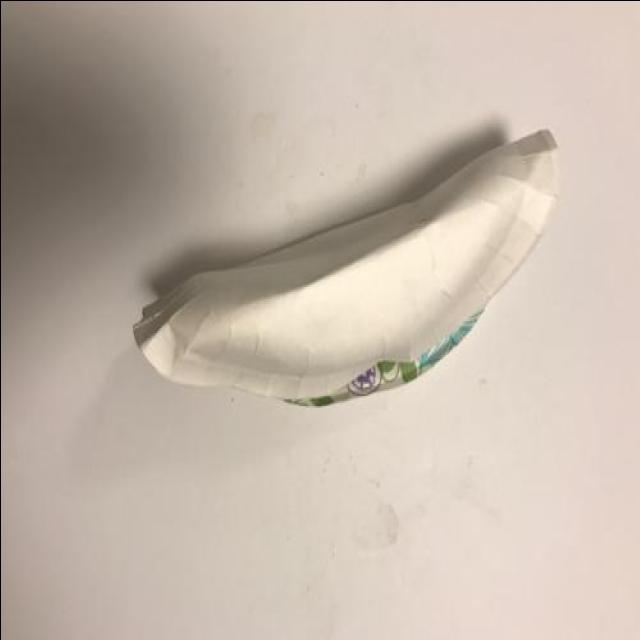kertas: (130, 129, 564, 408)
